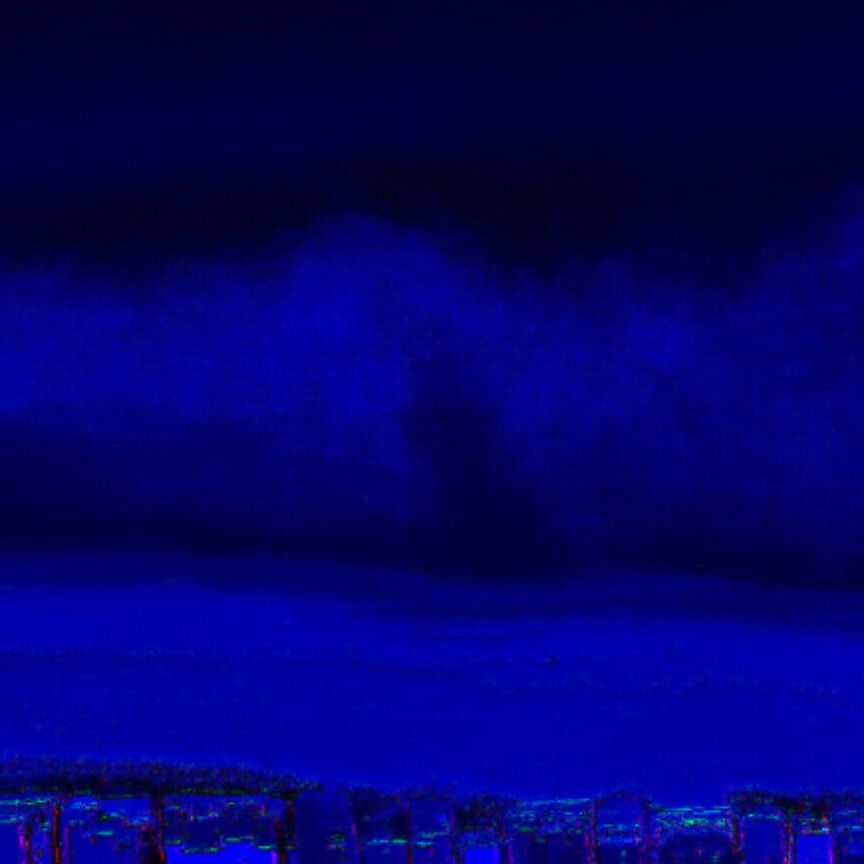rip_current: (373, 318, 561, 577)
